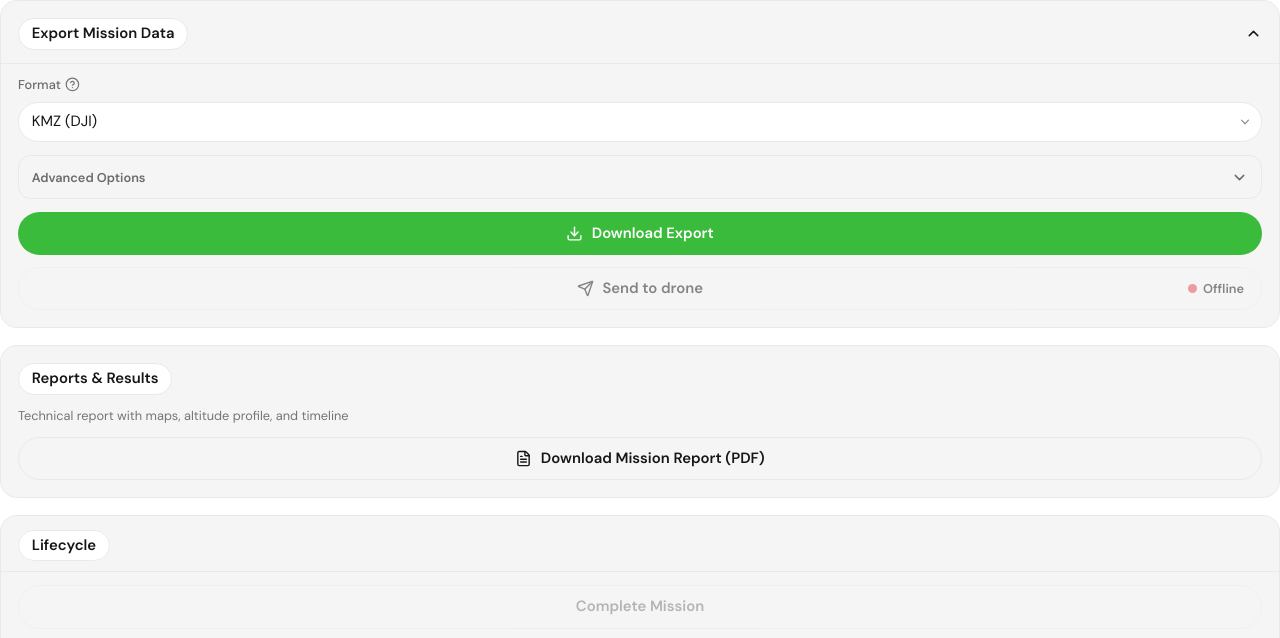
Test: ExportPanel - geozones toggle › renders geozone section but disables checkbox when only incapable formats are selected
This screenshot has width=1280, height=638.
Click the button with test id "advanced-options-toggle": (89, 177) x1=32 y1=168 x2=1248 y2=186
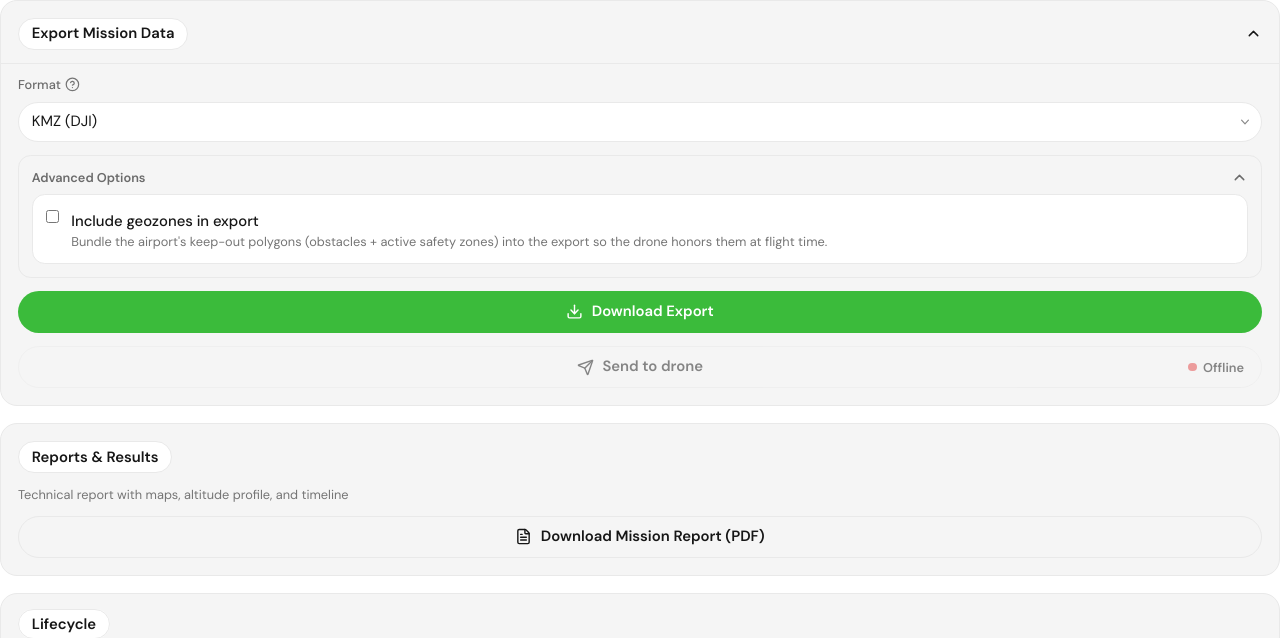
Select "GPX" in the dropdown with test id "format-select": (640, 122) x1=18 y1=102 x2=1262 y2=142
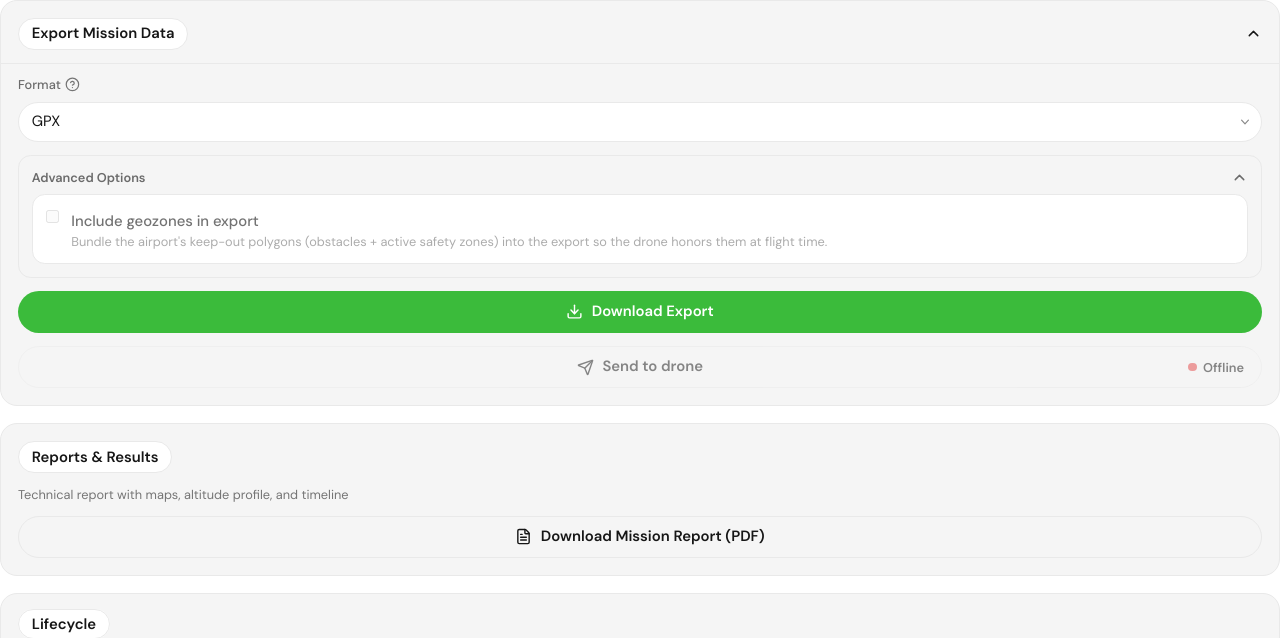
Now the checkbox with test id "include-geozones" is disabled, box x1=46 y1=210 x2=58 y2=223
